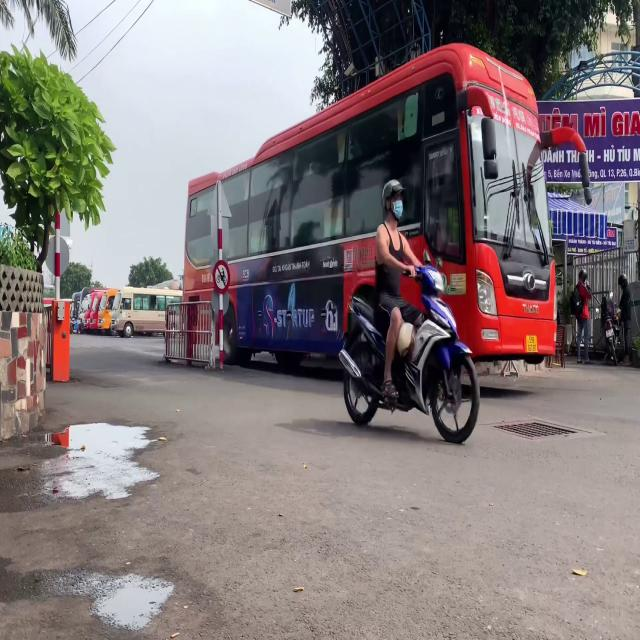bien_vang: (525, 332, 537, 355)
